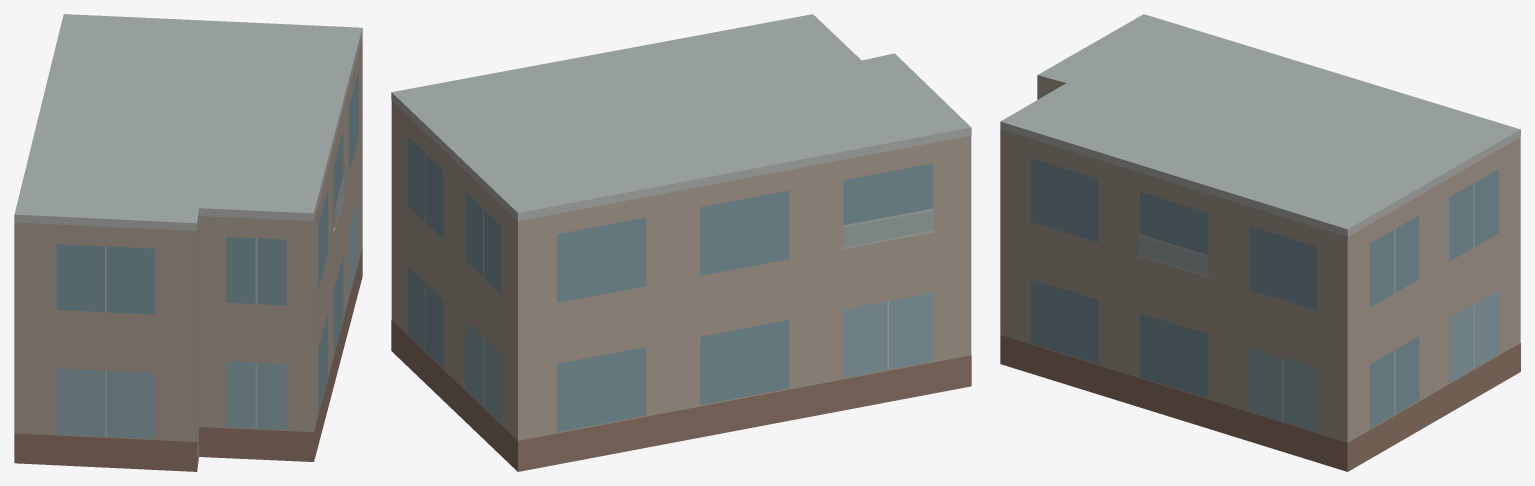
Rendered from survey-upis-32574592.glb.
3 renders of one model, left to right at view 1: azimuth 30°, elevation 25°; view 2: azimuth 150°, elevation 25°; view 3: azimuth 270°, elevation 25°, orthographic. The views are drawn at different scales.
Parts seen in each view (by area): view 1: survey-upis-32574592.tmp; view 2: survey-upis-32574592.tmp; view 3: survey-upis-32574592.tmp.
Boxes of the visible parts, box(x1,y1,x2,y2) form: survey-upis-32574592.tmp: box(14, 14, 362, 471); survey-upis-32574592.tmp: box(391, 14, 971, 471); survey-upis-32574592.tmp: box(1000, 14, 1520, 471).
Bounding box in the file's own units: 14.78 × 7.75 × 15.08.
